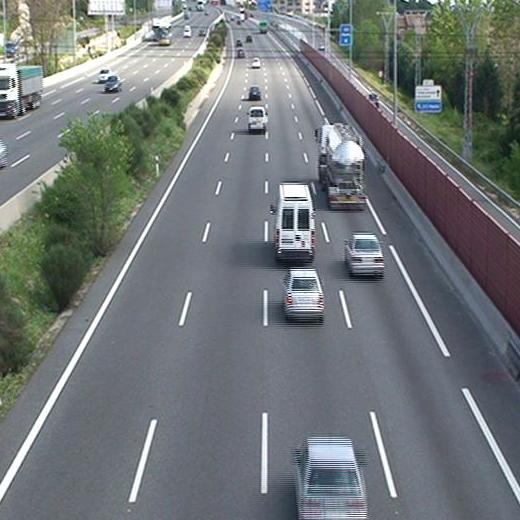car: (294, 439, 365, 520), (282, 269, 325, 323), (344, 235, 385, 280), (249, 85, 260, 100), (252, 57, 260, 69)
tank-truck: (315, 125, 368, 211)
van: (268, 185, 315, 263), (249, 107, 268, 134)
